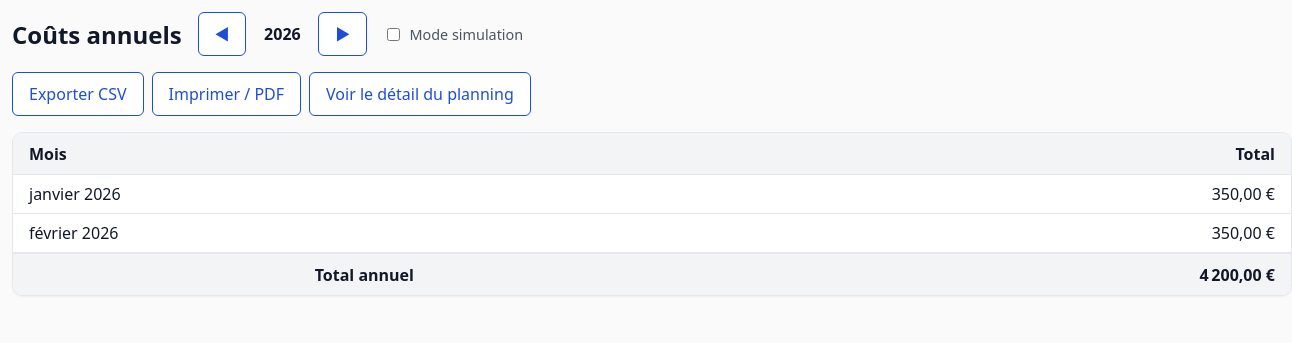
Test: CoutsAnnuelsPage › coche « Mode simulation » → colonnes de simulation et badge, l'URL porte ?simule=true
Expected: the column heading "janvier 2026" is shown, [13,175,716,214]
Expected: the column heading "Écart" is not shown
Click the checkbox labelled "Mode simulation": (394, 34) [387,28,400,40]
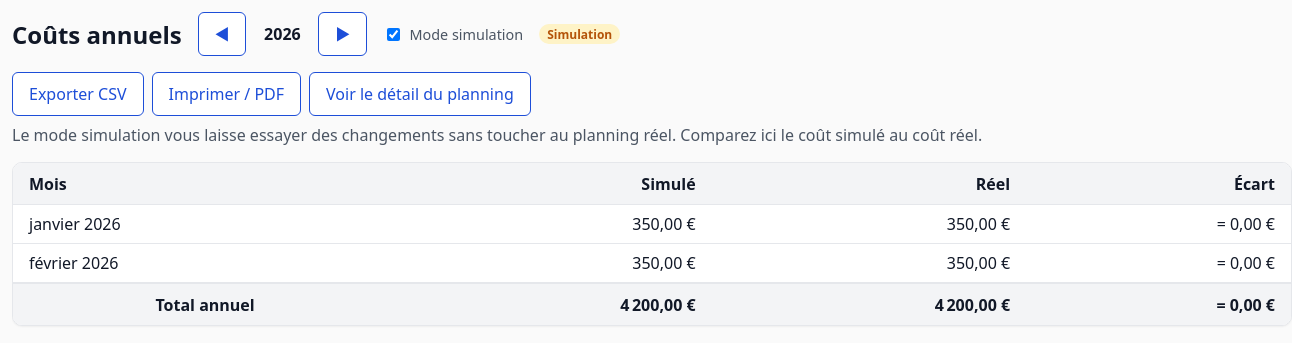
Expected: the column heading "Écart" is shown, [1026,163,1291,204]
Expected: the text "Simulation" is shown, [539,24,620,44]
